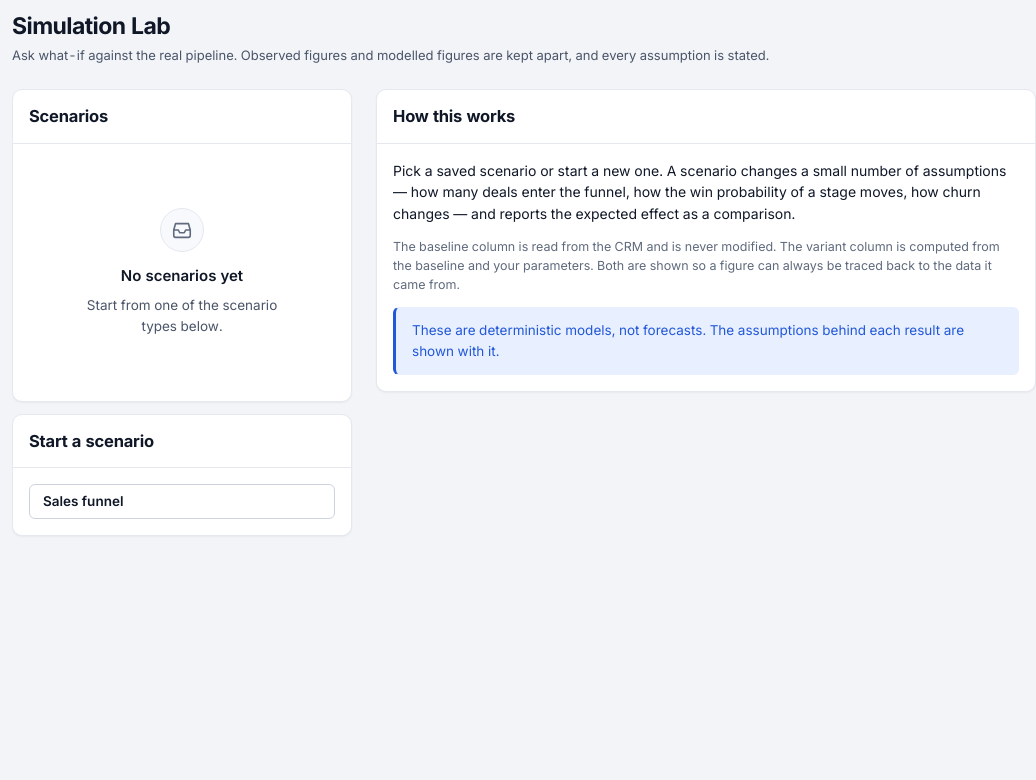
Scenario: SimulationPage › shows the server reason when a scenario has too little data
Click the button "Sales funnel" at coordinates (83, 501), box [29,484,335,519]
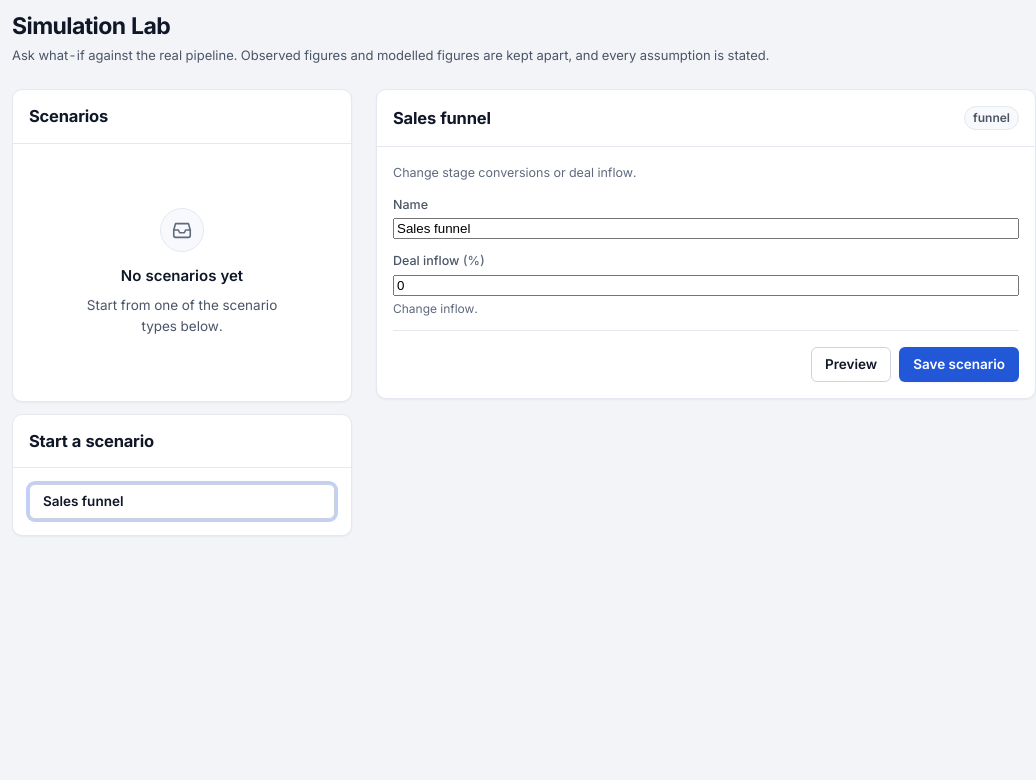
Click the button "Preview" at coordinates (851, 365), box [811,347,891,382]
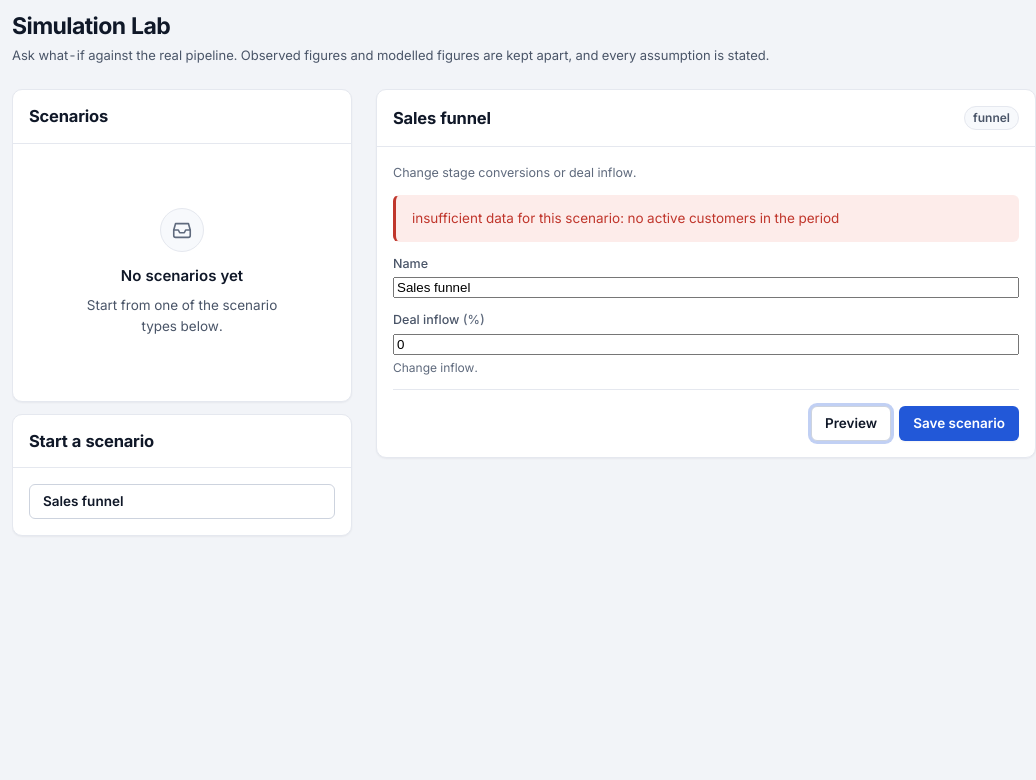
Expected: the text "insufficient data for this scenario" is shown, [412,210,839,226]
